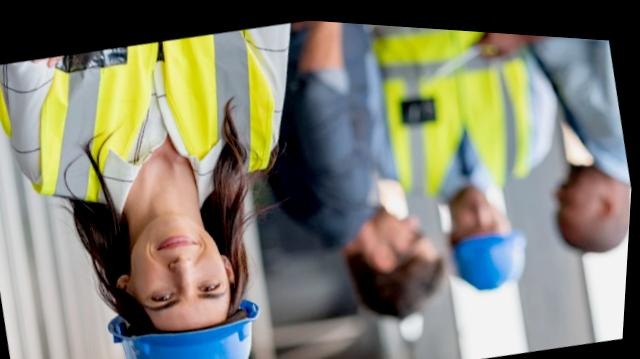helmet: (109, 286, 276, 359), (443, 211, 535, 285)
vest: (1, 13, 272, 222), (355, 19, 536, 205)
